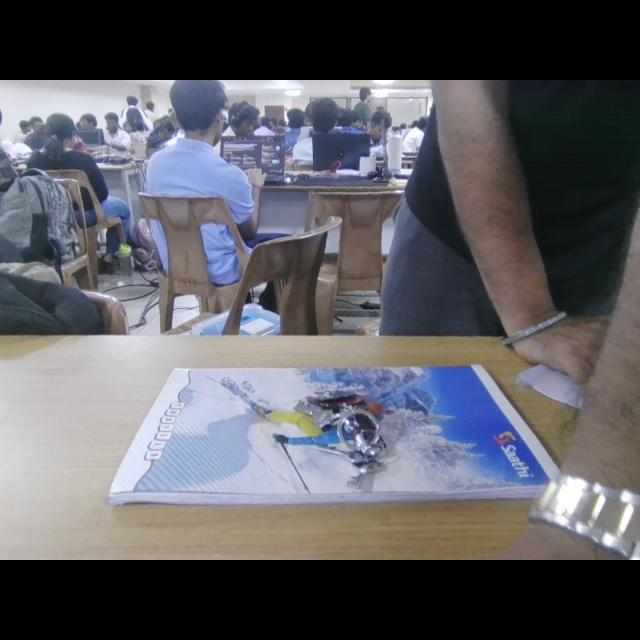keys: (307, 394, 387, 488)
